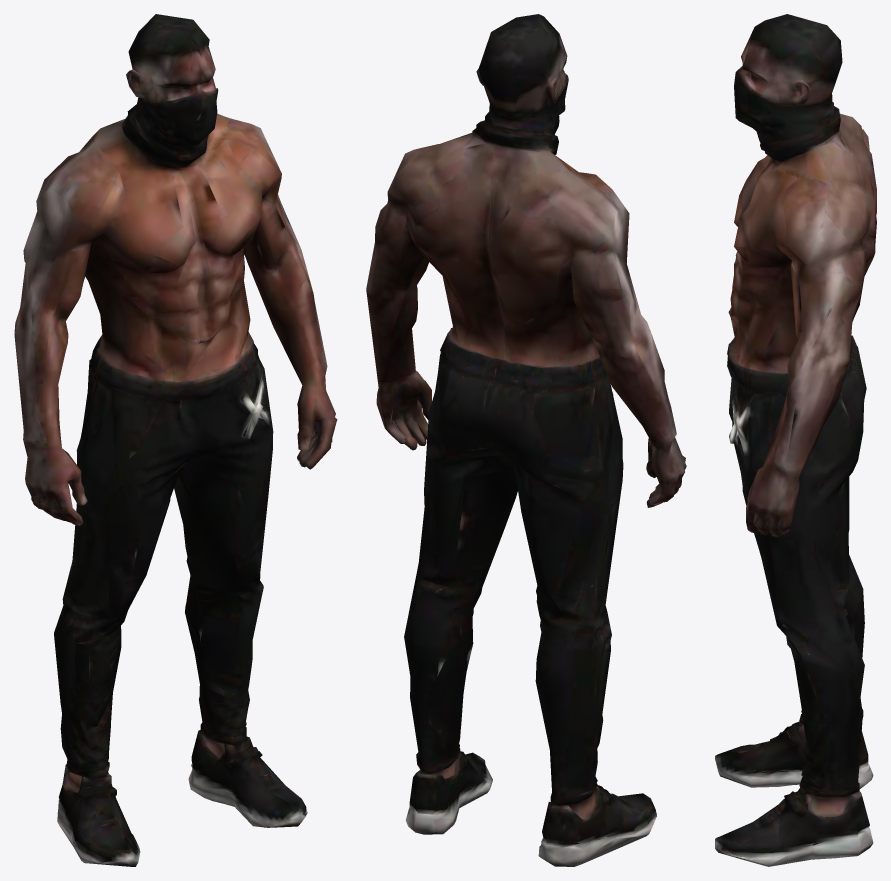
The model's file is KLOVE-low.glb.
3 views of the same model, side by side, from view 1: azimuth 30°, elevation 25°; view 2: azimuth 150°, elevation 25°; view 3: azimuth 270°, elevation 25° (orthographic).
Parts seen in each view (by area): view 1: tripo_node_7c754991-dafd-42d6-b4f6-fec1152c4f55; view 2: tripo_node_7c754991-dafd-42d6-b4f6-fec1152c4f55; view 3: tripo_node_7c754991-dafd-42d6-b4f6-fec1152c4f55.
Boxes of the visible parts, <box> form: tripo_node_7c754991-dafd-42d6-b4f6-fec1152c4f55: <box>14,14,337,866</box>; tripo_node_7c754991-dafd-42d6-b4f6-fec1152c4f55: <box>366,14,686,866</box>; tripo_node_7c754991-dafd-42d6-b4f6-fec1152c4f55: <box>715,14,876,866</box>.
Bounding box in the file's own units: 0.3846 × 0.9739 × 0.1799.
1 material, 1 textured.
